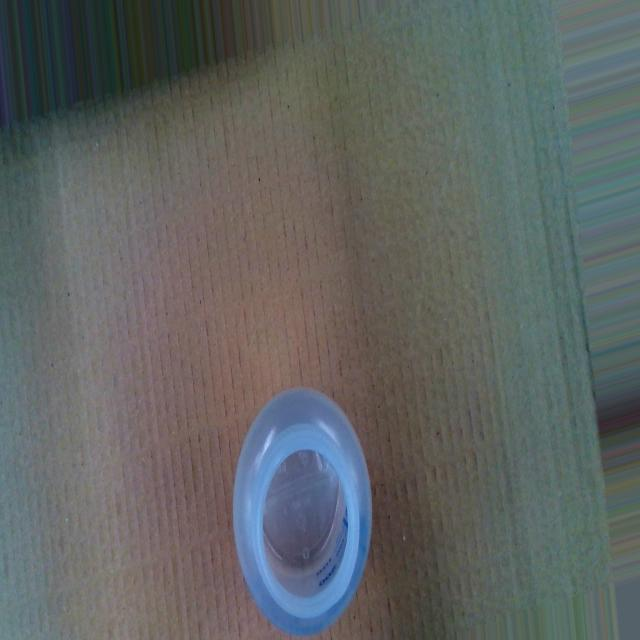bottle: (232, 387, 372, 640)
